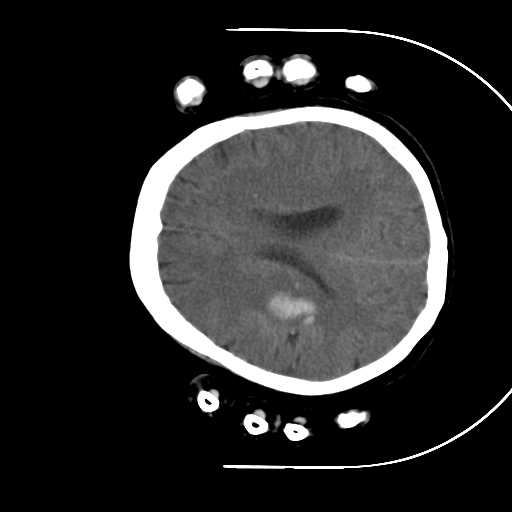a: (237, 259, 335, 341)
